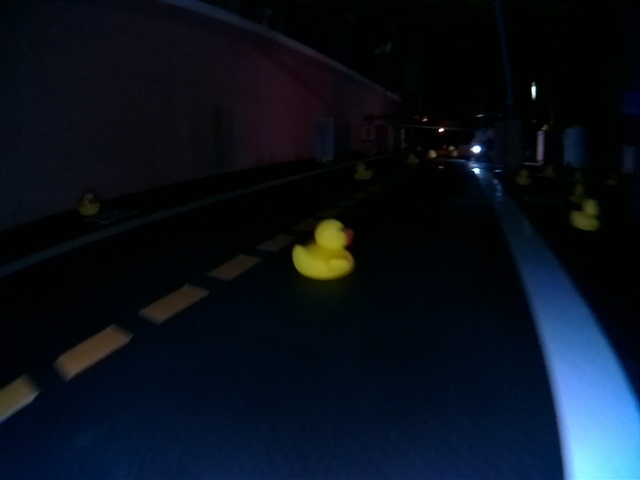Duckie: (295, 220, 354, 278), (572, 202, 598, 230), (78, 194, 98, 215)
